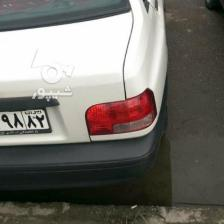plate: (0, 107, 52, 135)
